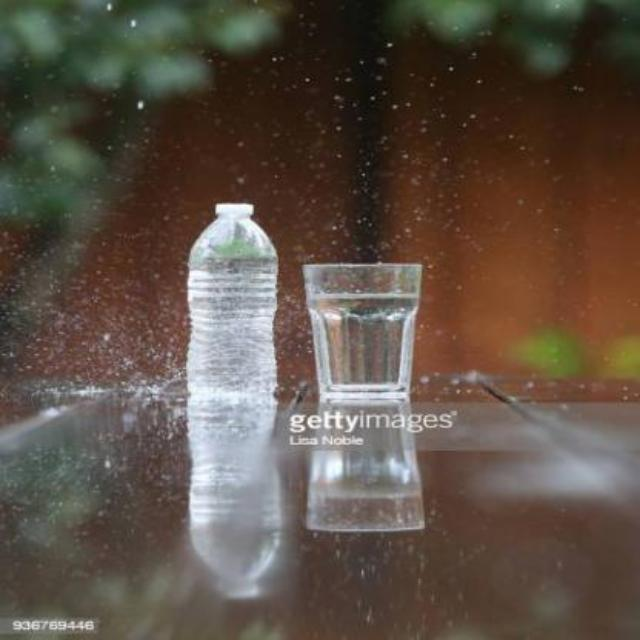bottle: (174, 195, 292, 422)
